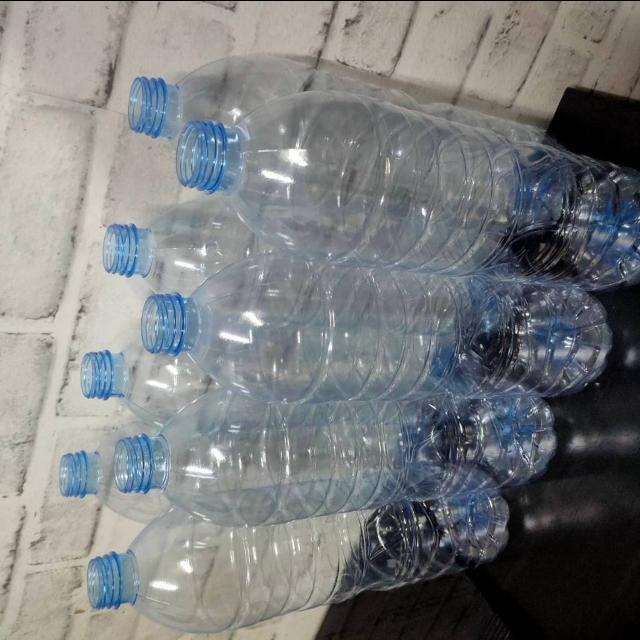PET Bottle: (174, 96, 640, 284), (141, 279, 626, 433), (71, 51, 640, 176), (22, 495, 600, 611), (110, 407, 604, 528), (55, 220, 205, 295), (37, 319, 159, 401), (25, 432, 111, 498)
